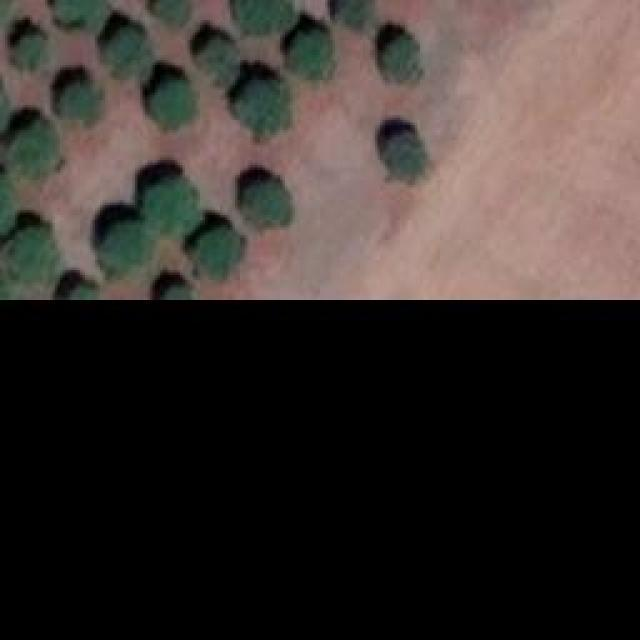Tree: (140, 175, 198, 230), (232, 80, 280, 135), (3, 228, 53, 278), (148, 75, 191, 130), (105, 30, 150, 78), (103, 220, 148, 268), (10, 123, 53, 173), (240, 178, 283, 228), (60, 80, 105, 125), (385, 130, 425, 180), (293, 30, 336, 75), (233, 0, 288, 35), (198, 225, 238, 270), (55, 0, 115, 28), (195, 38, 233, 78), (383, 38, 418, 81), (10, 32, 48, 70), (333, 0, 373, 25), (158, 0, 193, 25), (160, 283, 188, 298), (65, 280, 88, 298)
